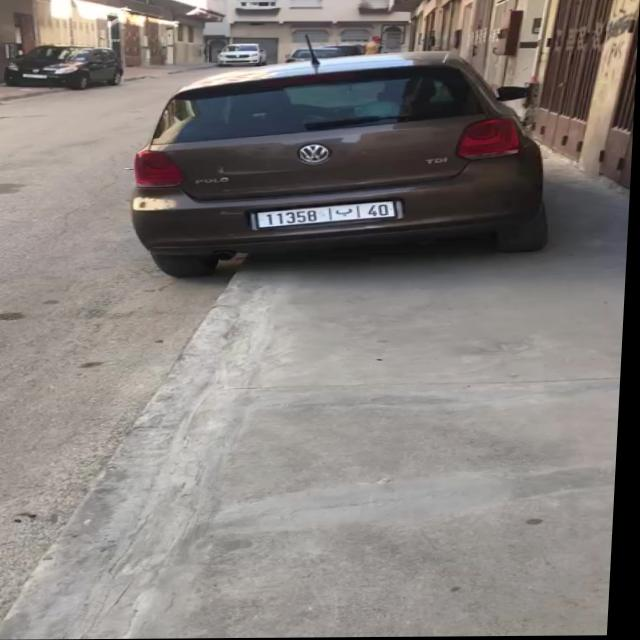License-Plate: (261, 202, 396, 228)
